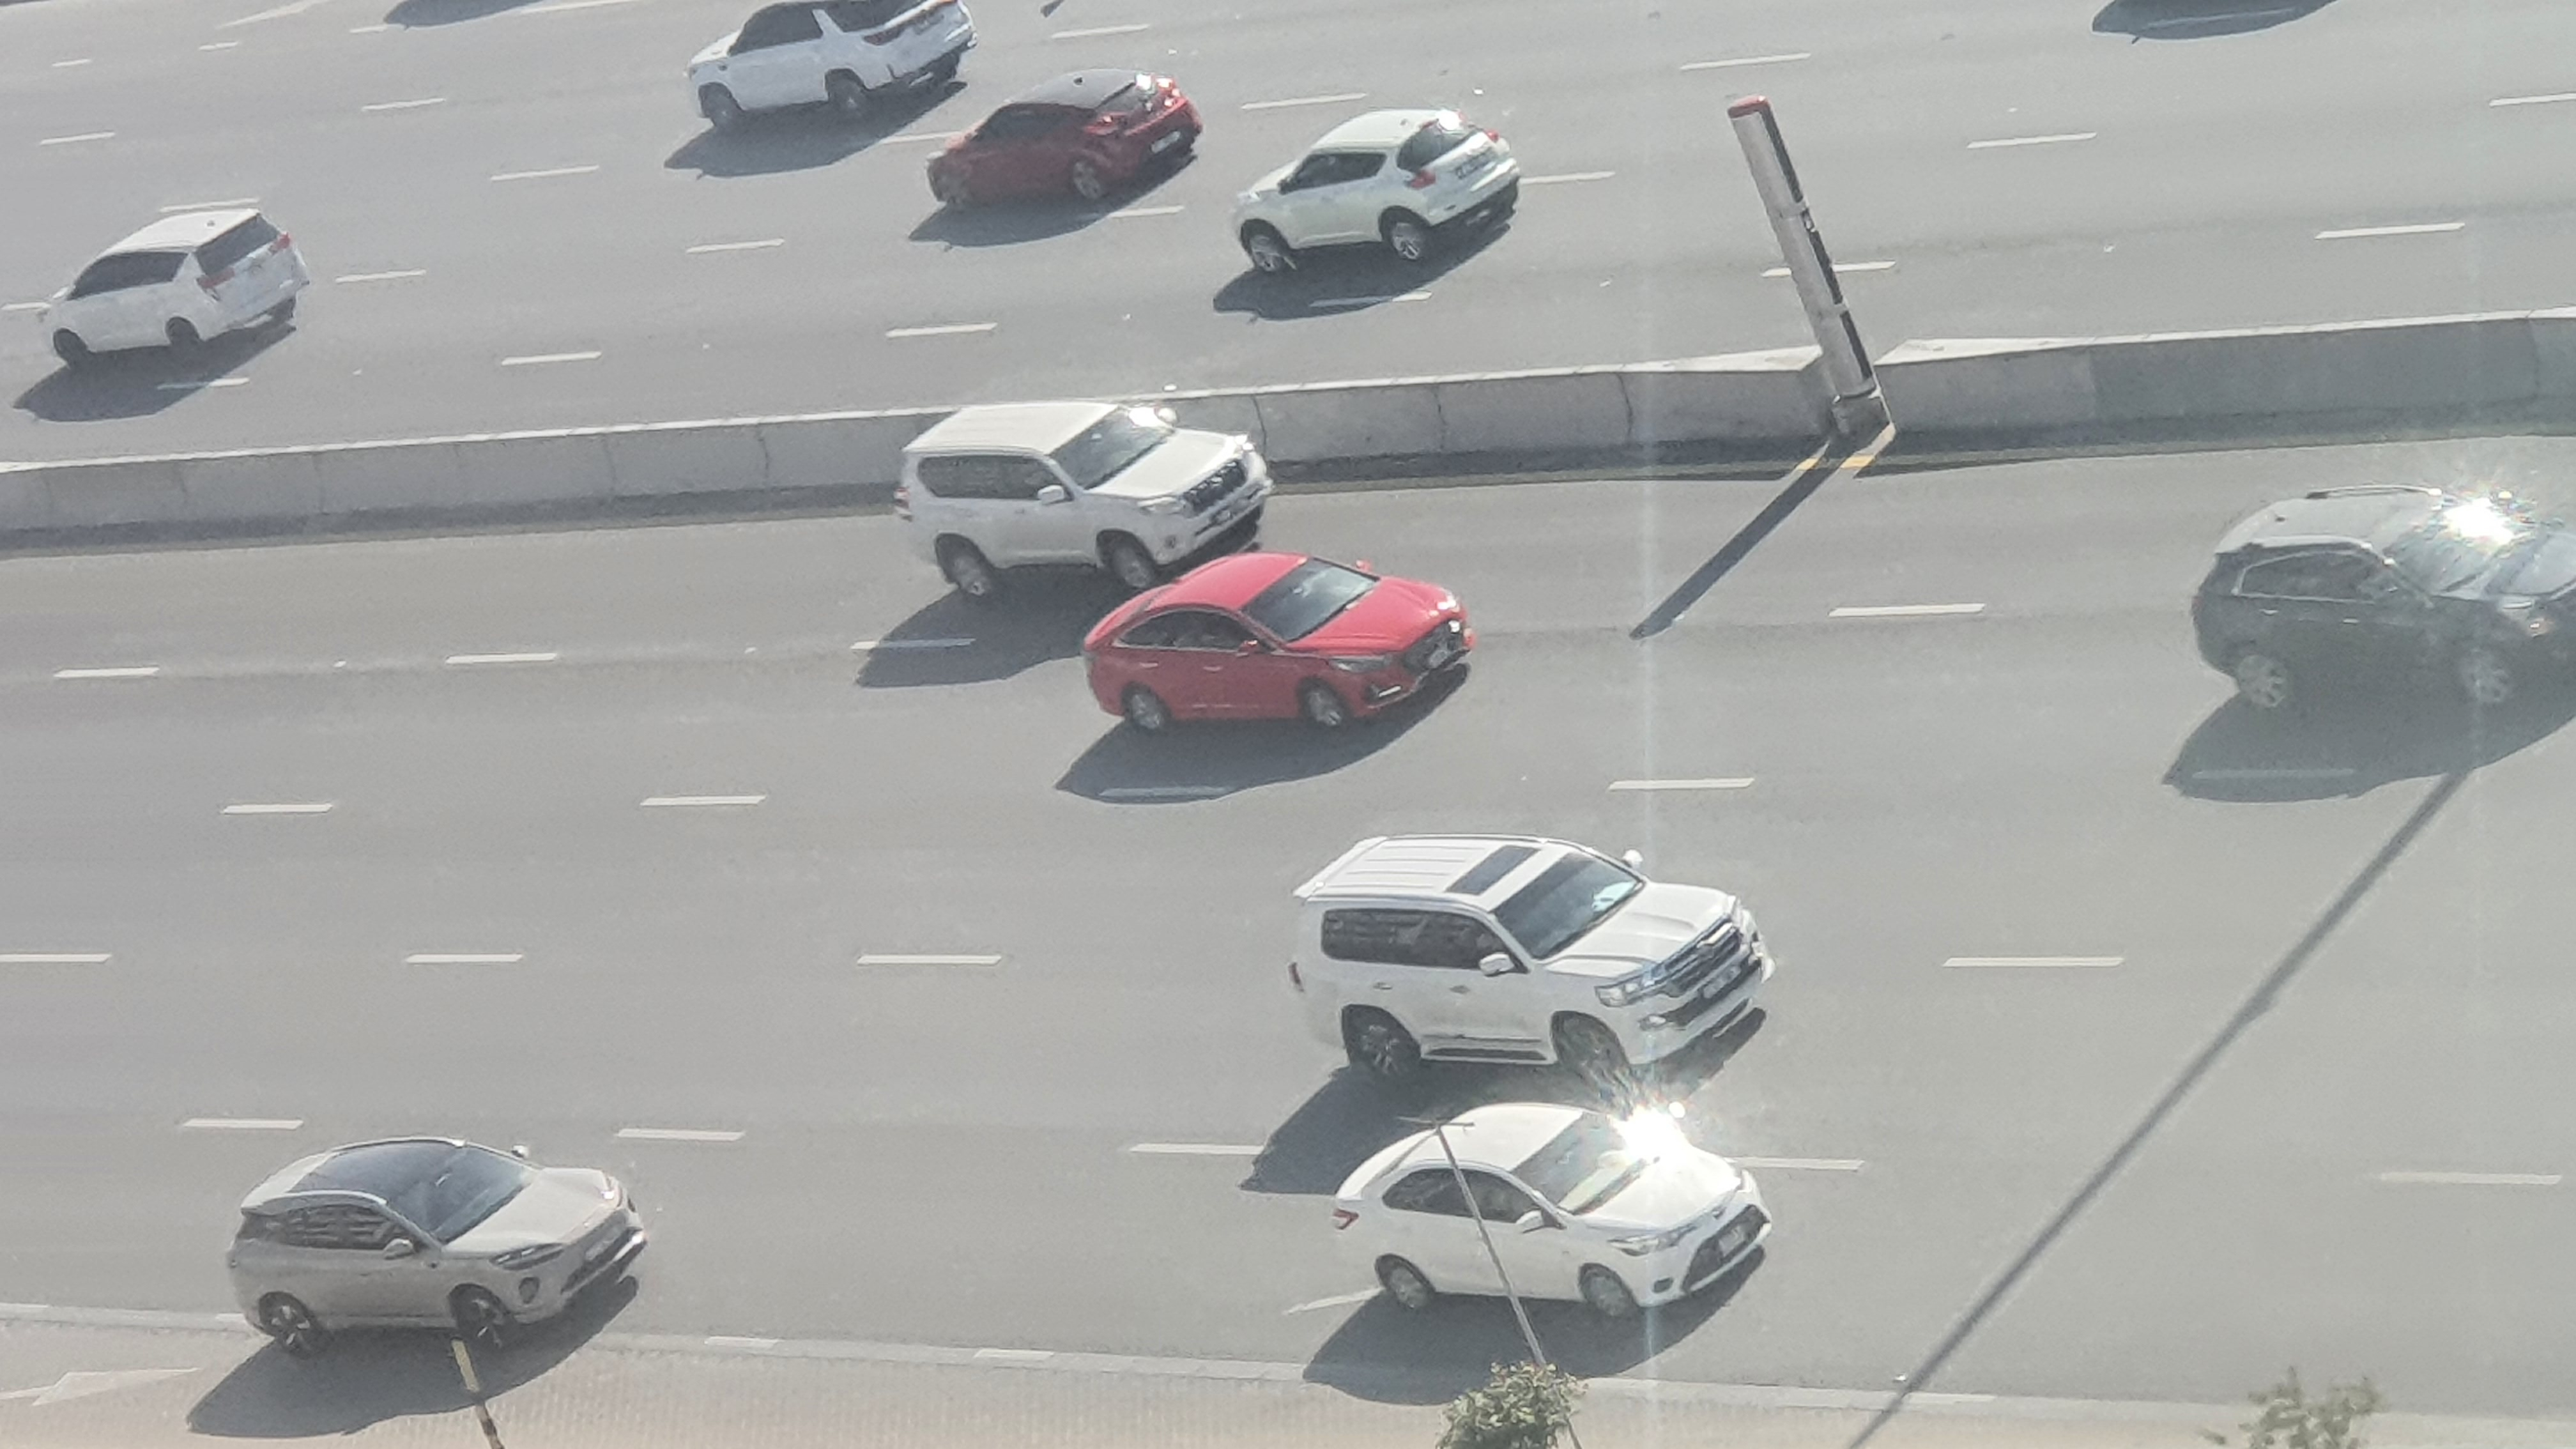NotSunroof: (1339, 1095, 1778, 1343), (2190, 485, 2576, 715), (1085, 550, 1477, 740), (895, 396, 1270, 582)
Sunroof: (1277, 823, 1778, 1093), (211, 1131, 655, 1366)
